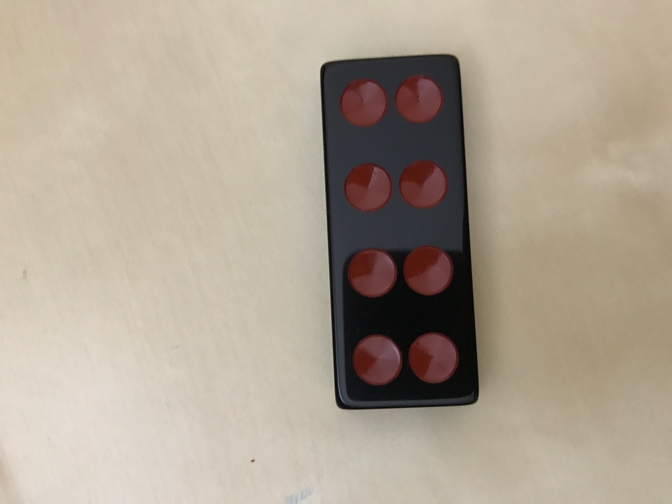man: (320, 54, 480, 411)
